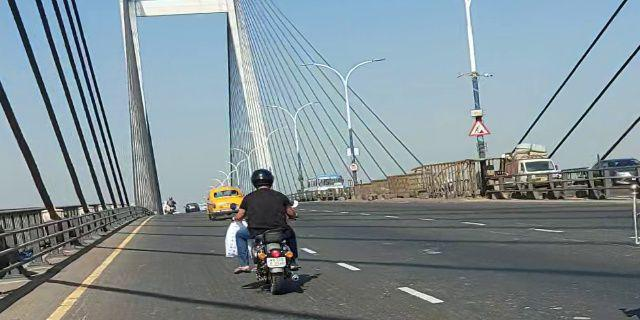Car: (202, 185, 245, 218)
Motorbike: (230, 165, 312, 298)
